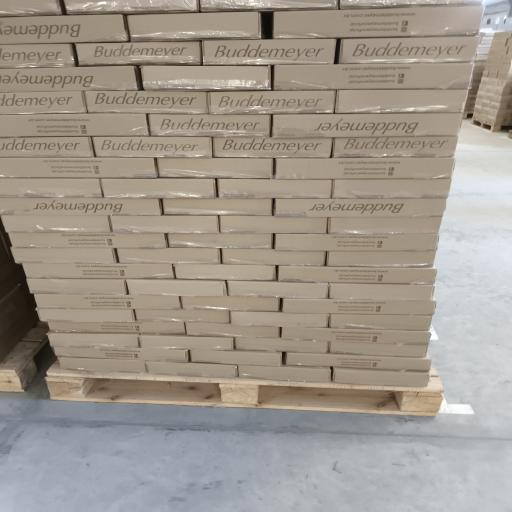pallet: (47, 362, 442, 415), (0, 338, 47, 391), (472, 119, 507, 132), (463, 112, 473, 118), (507, 130, 512, 139)
